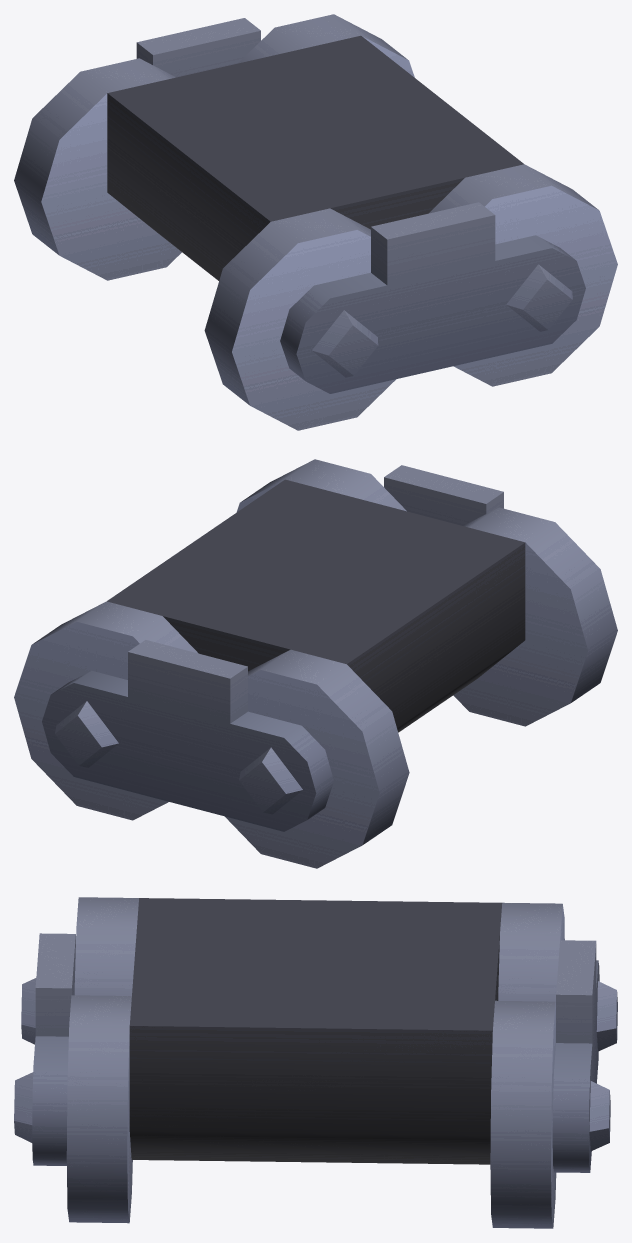
The model's file is wheels-front.002_lev2.glb.
3 renders of one model, top to bottom at view 1: azimuth 30°, elevation 25°; view 2: azimuth 150°, elevation 25°; view 3: azimuth 270°, elevation 25°, orthographic. The views are drawn at different scales.
Parts seen in each view (by area): view 1: wheels-front.002_lev2; view 2: wheels-front.002_lev2; view 3: wheels-front.002_lev2.
Boxes of the visible parts, <box> form: wheels-front.002_lev2: <box>14,14,617,430</box>; wheels-front.002_lev2: <box>14,459,617,868</box>; wheels-front.002_lev2: <box>14,897,617,1228</box>.
Bounding box in the file's own units: 0.7856 × 0.3595 × 0.9976.
Materials: 1 (1 with a texture image).
